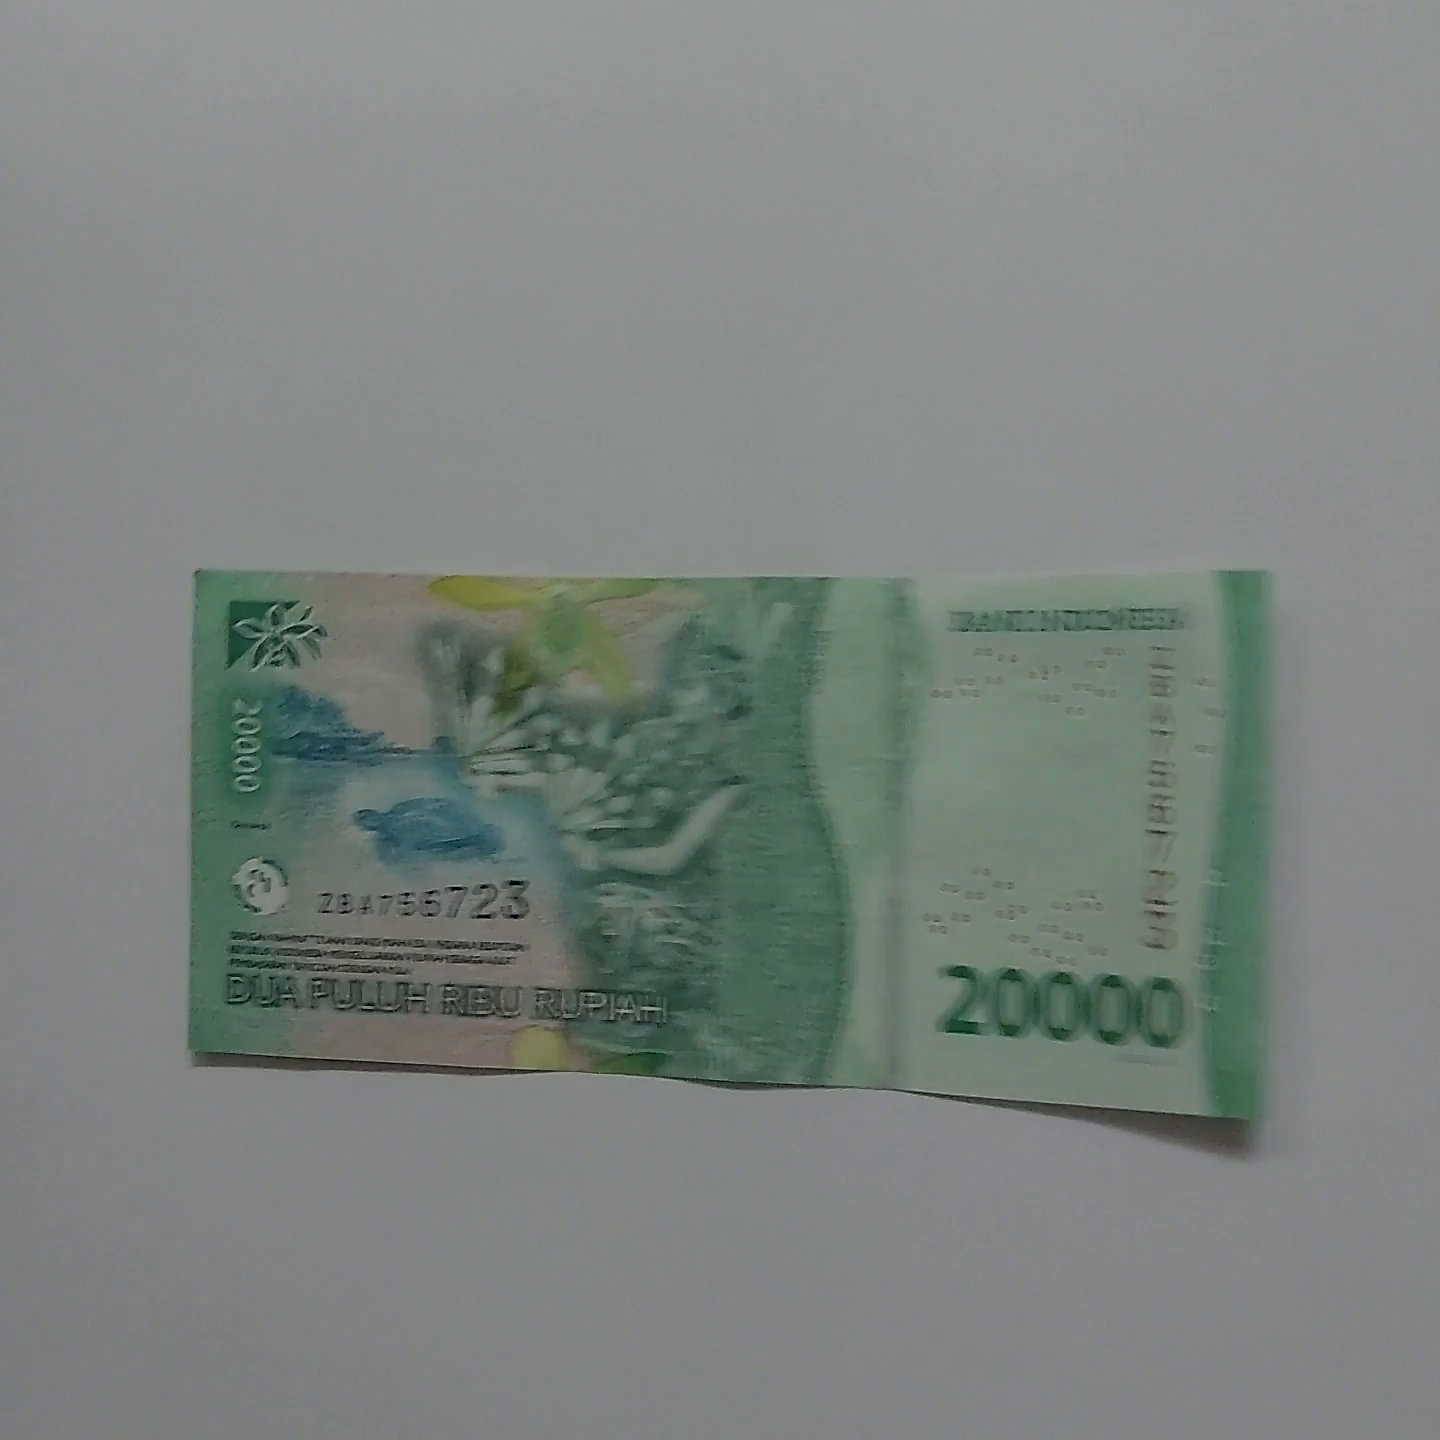20k: (121, 514, 1287, 1145)
